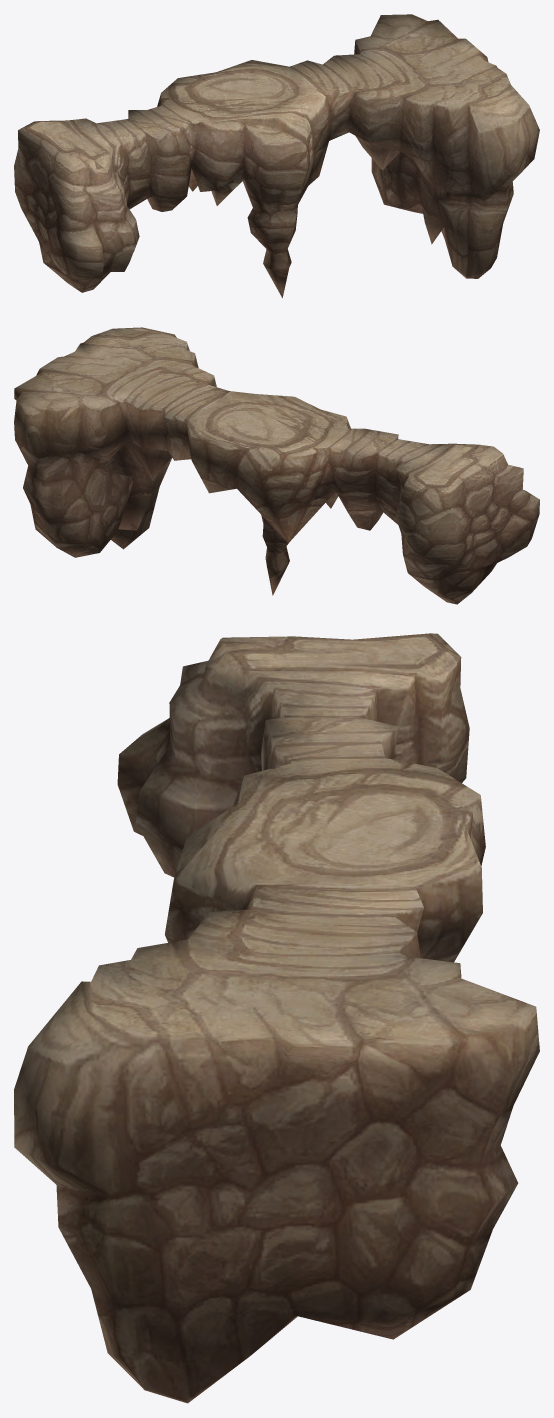
File: stone_08.FBX
The picture shows the model from 3 angles, top to bottom: view 1: azimuth 30°, elevation 25°; view 2: azimuth 150°, elevation 25°; view 3: azimuth 270°, elevation 25°; orthographic projection. The views are drawn at different scales.
Visible parts, largest first — view 1: stone_07; view 2: stone_07; view 3: stone_07.
Boxes of the visible parts, left/top/right/bottom form: stone_07: left=14, top=14, right=539, bottom=297; stone_07: left=14, top=327, right=539, bottom=604; stone_07: left=14, top=633, right=539, bottom=1403.
Bounding box in the file's own units: 19.73 × 8.35 × 9.99.
